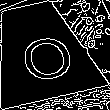O_N: (8, 21, 73, 82)
